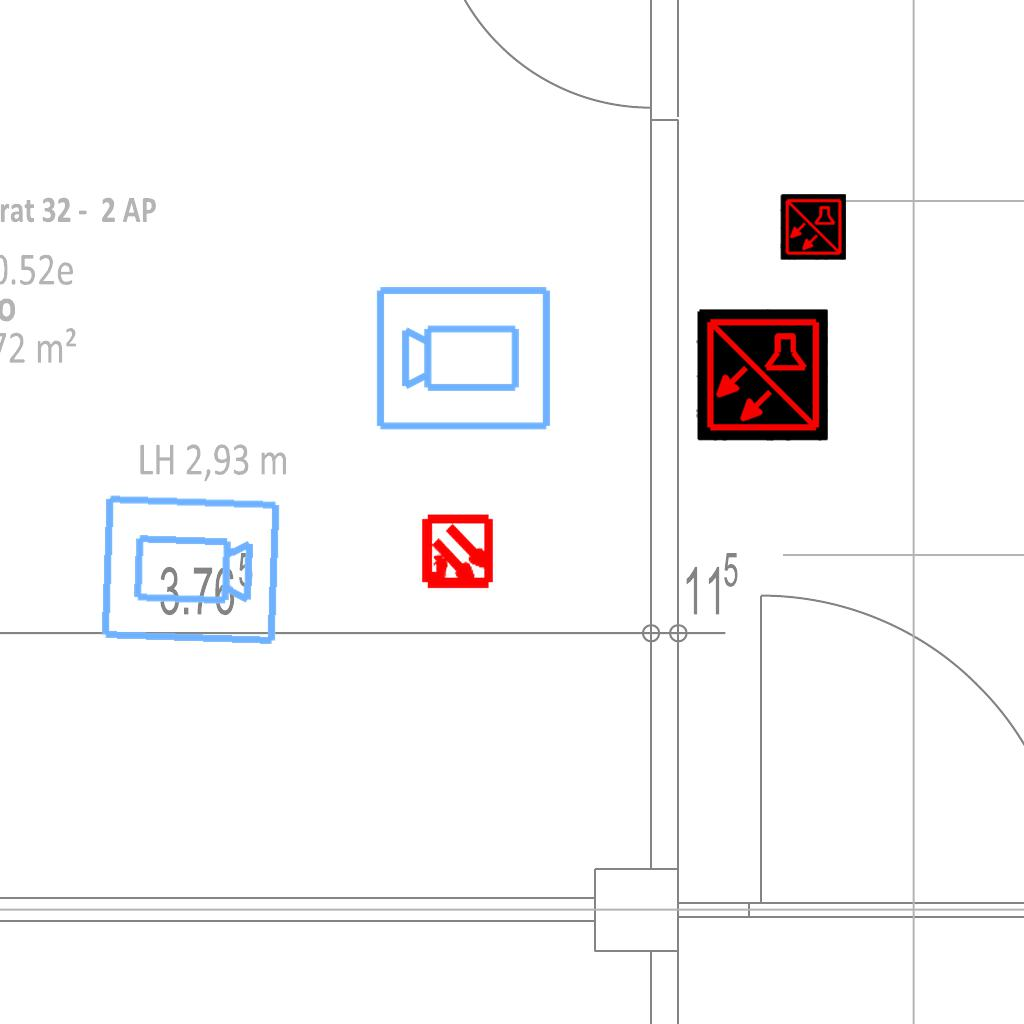KFO_Kamera_mit_Festobjektiv: (96, 490, 284, 652), (373, 280, 555, 434)
OKW_Multisensormelder_(Kombination_optischer_Rauch-Kahlenmonoxid_Waerme-Melder): (696, 309, 828, 441), (780, 194, 846, 260)
OT_Multisensormelder_(Kombination_RMO_WMD): (401, 497, 514, 610)
